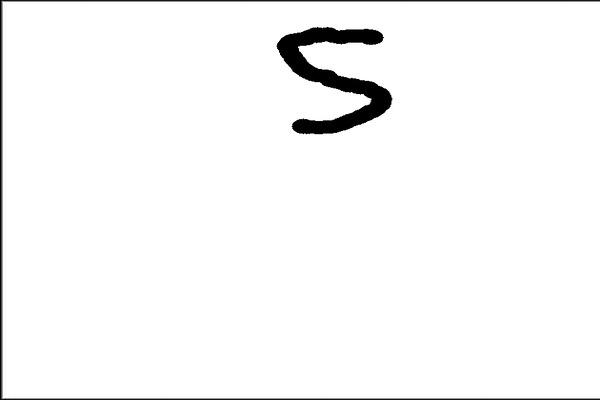S: (268, 22, 396, 139)
